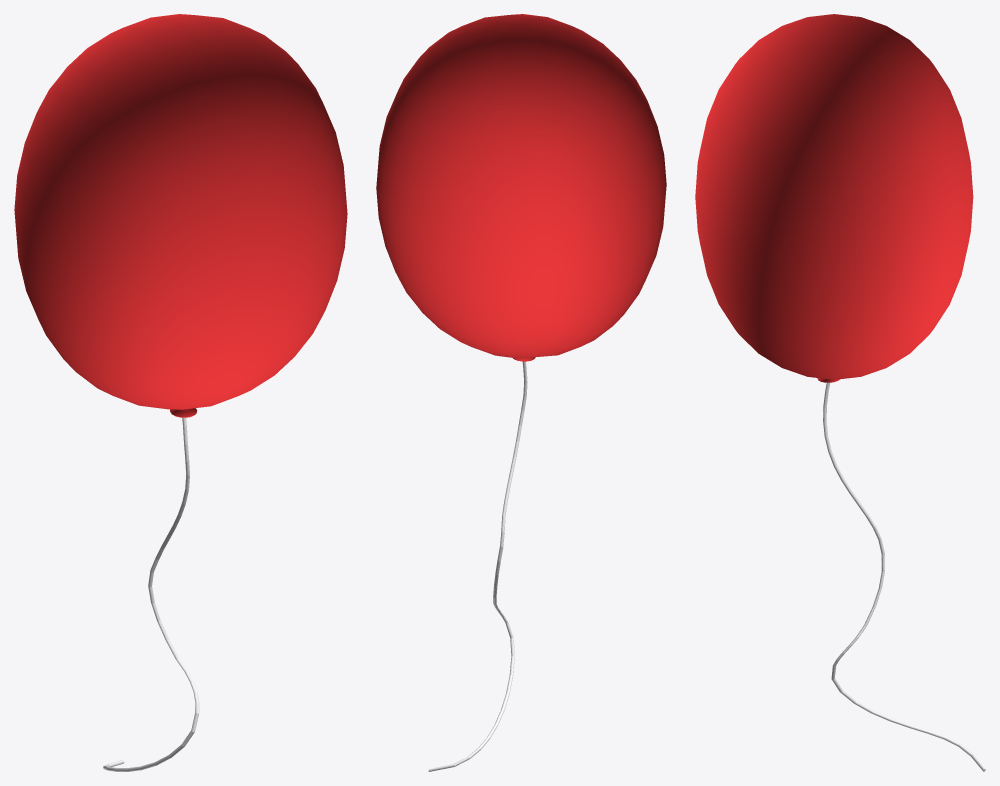
File: Ballon.fbx
The picture shows the model from 3 angles, left to right: view 1: azimuth 30°, elevation 25°; view 2: azimuth 150°, elevation 25°; view 3: azimuth 270°, elevation 25°; orthographic projection. The views are drawn at different scales.
Parts seen in each view (by area): view 1: Balloon; view 2: Balloon; view 3: Balloon.
Boxes of the visible parts, x1,y1,x2,y2 form: Balloon: (14, 14, 347, 771); Balloon: (376, 14, 666, 771); Balloon: (695, 14, 985, 771).
Size of the model in its own units: 2.68 by 7.08 by 2.54.
